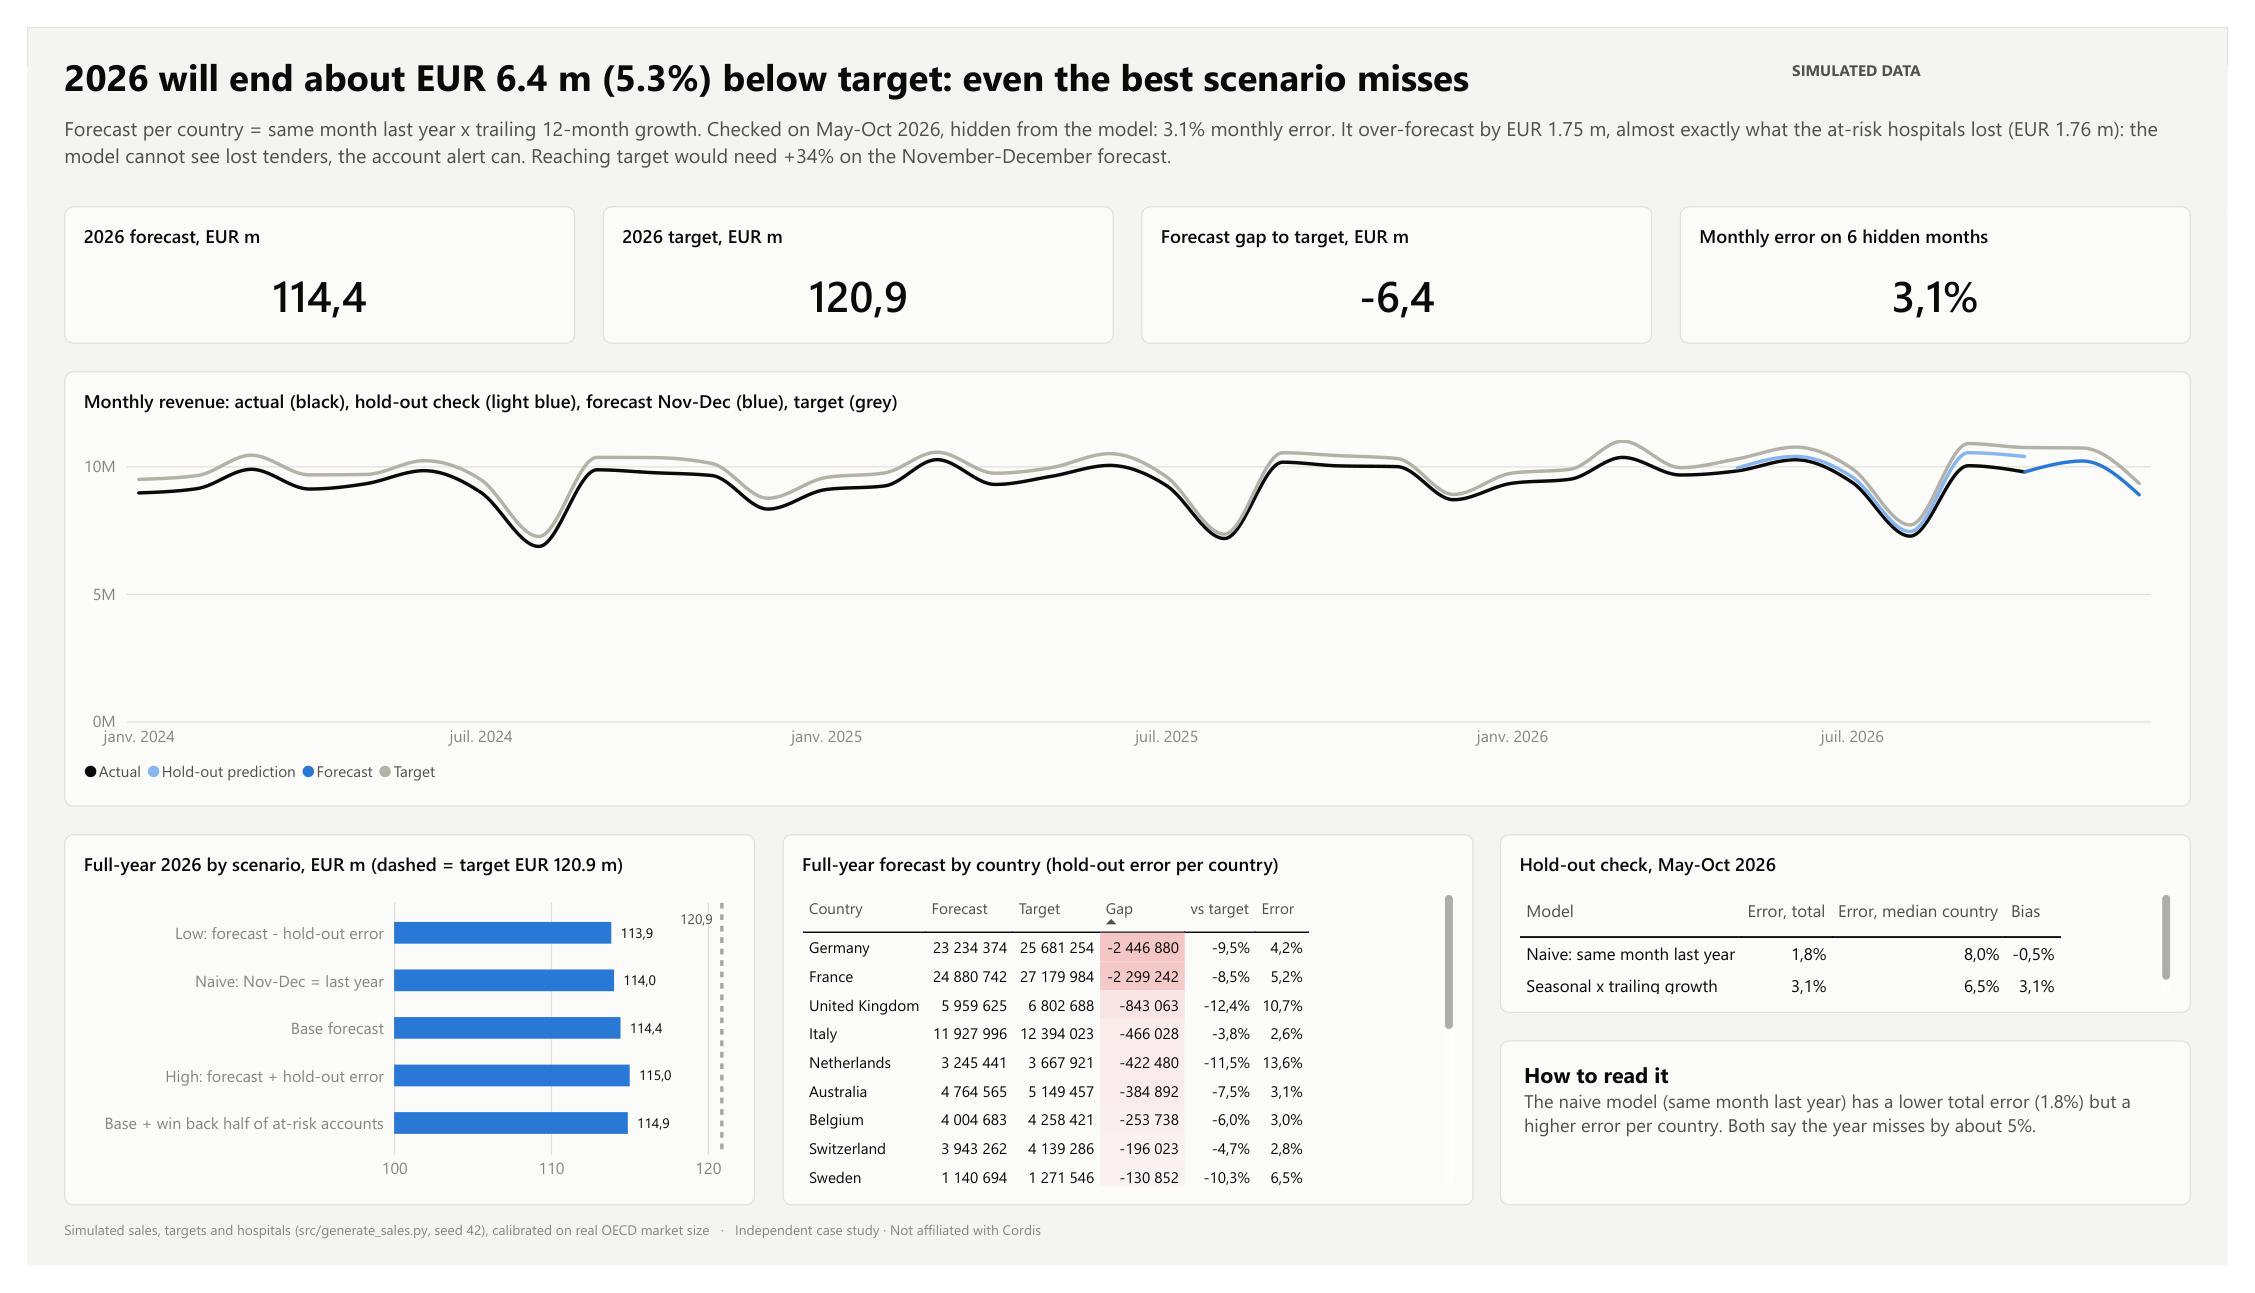

The page's visual inventory and layout, read from the dashboard file:
{"tool":"powerbi","page":{"name":"4 · Forecast","canvas":[1920,1080],"ordinal":4},"visuals":[{"type":"textbox","box":[32,20,1500,56],"z":1000},{"type":"textbox","box":[1540,28,348,40],"z":2000},{"type":"textbox","box":[32,76,1856,64],"z":3000},{"type":"card","title":"2026 forecast, EUR m","fields":{"Values":["_Measures.FY Forecast (EUR m)"]},"box":[32,156,446,120],"z":4000},{"type":"card","title":"2026 target, EUR m","fields":{"Values":["_Measures.FY Target (EUR m)"]},"box":[502,156,446,120],"z":5000},{"type":"card","title":"Forecast gap to target, EUR m","fields":{"Values":["_Measures.FY Gap (EUR m)"]},"box":[972,156,446,120],"z":6000},{"type":"card","title":"Monthly error on 6 hidden months","fields":{"Values":["_Measures.Hold-out MAPE"]},"box":[1442,156,446,120],"z":7000},{"type":"lineChart","title":"Monthly revenue: actual (black), hold-out check (light blue), forecast Nov-Dec (blue), target (grey)","fields":{"Category":["Forecast Monthly.month"],"Y":["_Measures.Monthly Actual","_Measures.Hold-out Prediction","_Measures.Monthly Forecast","_Measures.Monthly Target"]},"box":[32,300,1856,380],"z":8000},{"type":"clusteredBarChart","title":"Full-year 2026 by scenario, EUR m (dashed = target EUR 120.9 m)","fields":{"Category":["Forecast Scenarios.scenario"],"Y":["_Measures.Scenario Revenue (EUR m)"]},"box":[32,704,603,324],"z":9000},{"type":"tableEx","title":"Full-year forecast by country (hold-out error per country)","fields":{"Values":["Forecast Country.country","Forecast Country.forecast_fy","Forecast Country.target_fy","Forecast Country.gap_fy","Forecast Country.vs_target_fy","Forecast Country.holdout_mape"]},"box":[659,704,603,324],"z":10000},{"type":"tableEx","title":"Hold-out check, May-Oct 2026","fields":{"Values":["Forecast Models.model","Forecast Models.mape_total","Forecast Models.mape_country_median","Forecast Models.error_6m_total"]},"box":[1285,704,603,156],"z":11000},{"type":"textbox","box":[1285,884,603,144],"z":12000},{"type":"textbox","box":[32,1040,1856,32],"z":13000}]}

Visuals, with their boxes in screenshot pixels (x1, y1, x2, y2), scaled from the page's 1920x1080 canvas onto the 2255x1293 screenshot:
textbox: [x1=38, y1=24, x2=1799, y2=91]
textbox: [x1=1809, y1=34, x2=2217, y2=81]
textbox: [x1=38, y1=91, x2=2217, y2=168]
"2026 forecast, EUR m" card: [x1=38, y1=187, x2=561, y2=330]
"2026 target, EUR m" card: [x1=590, y1=187, x2=1113, y2=330]
"Forecast gap to target, EUR m" card: [x1=1142, y1=187, x2=1665, y2=330]
"Monthly error on 6 hidden months" card: [x1=1694, y1=187, x2=2217, y2=330]
"Monthly revenue: actual (black), hold-out check (light blue), forecast Nov-Dec (blue), target (grey)" lineChart: [x1=38, y1=359, x2=2217, y2=814]
"Full-year 2026 by scenario, EUR m (dashed = target EUR 120.9 m)" clusteredBarChart: [x1=38, y1=843, x2=746, y2=1231]
"Full-year forecast by country (hold-out error per country)" tableEx: [x1=774, y1=843, x2=1482, y2=1231]
"Hold-out check, May-Oct 2026" tableEx: [x1=1509, y1=843, x2=2217, y2=1030]
textbox: [x1=1509, y1=1058, x2=2217, y2=1231]
textbox: [x1=38, y1=1245, x2=2217, y2=1283]
